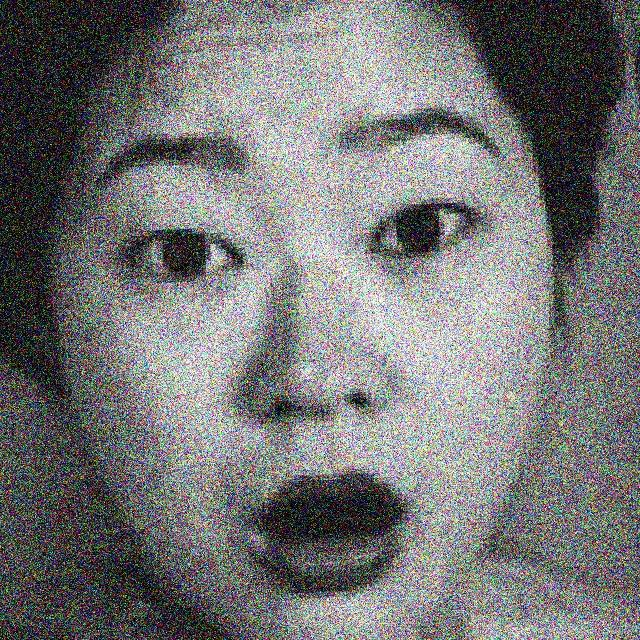surprise: (79, 22, 557, 640)
